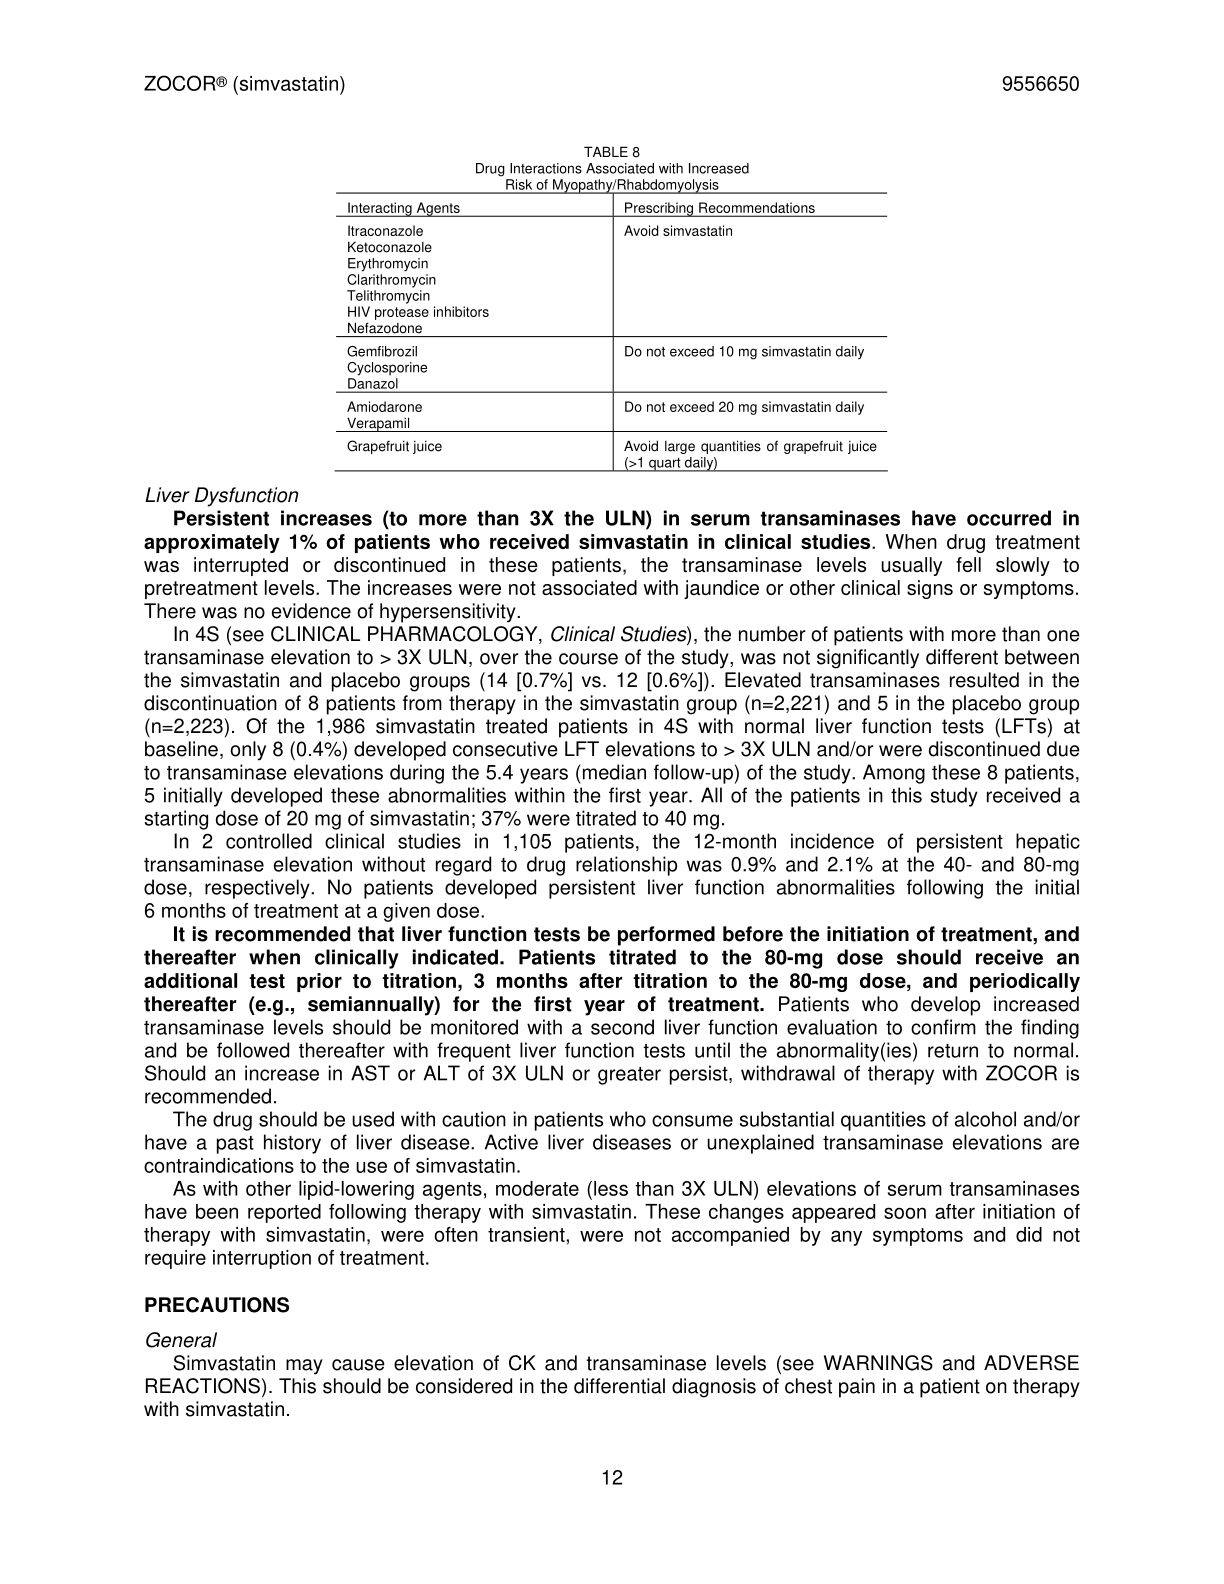partial_lined: (334, 192, 890, 473)
